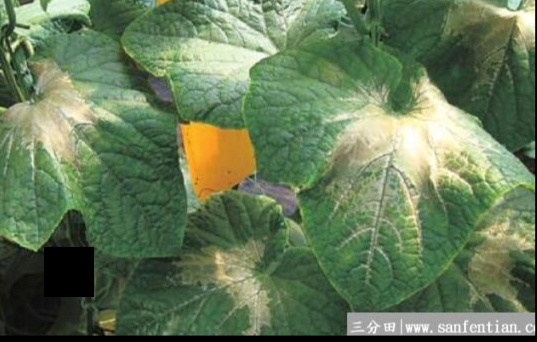cucumber_plant: (254, 32, 524, 305), (6, 17, 192, 256)
